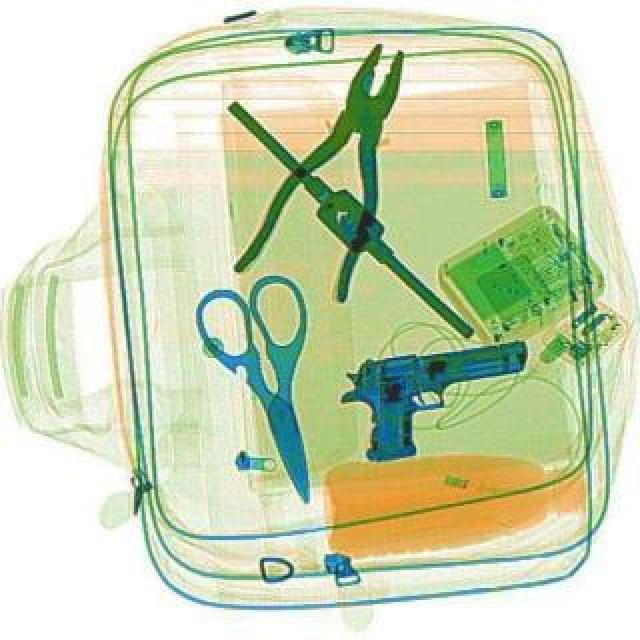gun: (334, 334, 548, 470)
pliers: (190, 270, 366, 518)
wrench: (234, 30, 450, 314)
